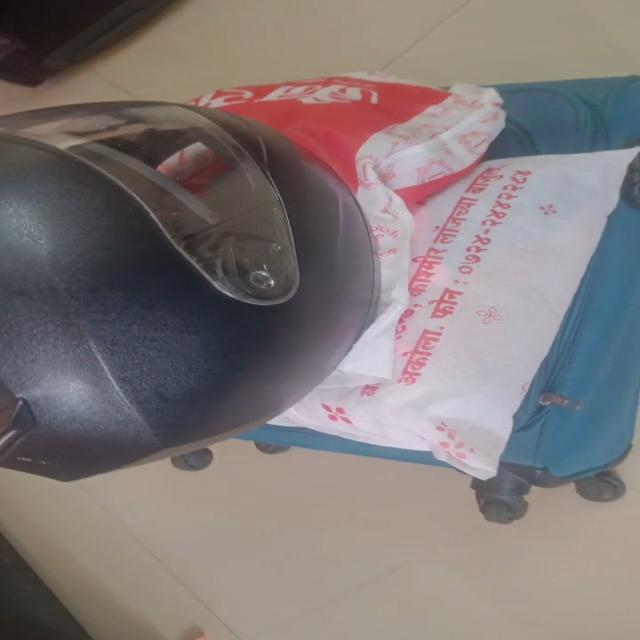Helmet: (0, 101, 376, 481)
